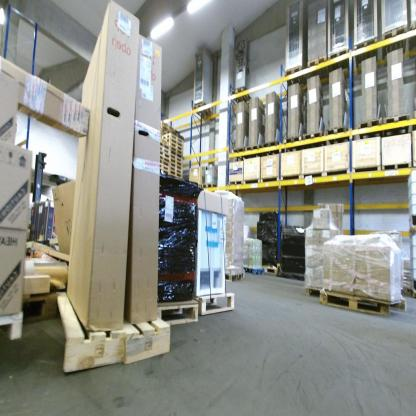pallet: (56, 283, 178, 377), (305, 272, 409, 316), (318, 287, 391, 317), (18, 288, 65, 328), (148, 299, 201, 329), (192, 288, 237, 323), (0, 309, 30, 348), (381, 20, 406, 64), (352, 31, 380, 68), (326, 44, 350, 77), (384, 110, 411, 138), (325, 122, 356, 146), (358, 115, 385, 140), (230, 83, 254, 110), (306, 53, 327, 83), (191, 97, 215, 122), (282, 64, 305, 89), (302, 127, 328, 148), (261, 137, 285, 159), (284, 131, 306, 153), (244, 140, 268, 159), (230, 143, 252, 162), (406, 16, 415, 56), (224, 269, 245, 284), (243, 265, 265, 279), (162, 130, 184, 140), (262, 264, 278, 277), (162, 134, 182, 144), (201, 180, 217, 188), (171, 154, 183, 164), (166, 140, 182, 147), (160, 153, 171, 163), (160, 162, 170, 173), (170, 146, 182, 155), (409, 285, 416, 300), (170, 162, 183, 170), (170, 151, 183, 159), (171, 144, 183, 152), (169, 171, 182, 178), (160, 145, 170, 154), (161, 150, 171, 159), (406, 228, 415, 237), (171, 159, 182, 166), (171, 167, 182, 174), (160, 142, 170, 149), (159, 169, 170, 175), (161, 160, 170, 167)
